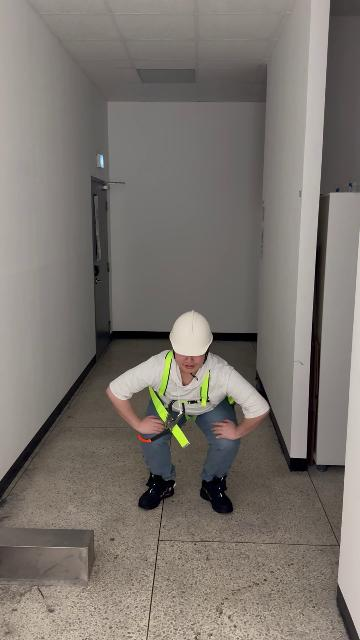helmet_worn: (168, 310, 214, 356)
shoe_worn: (138, 472, 176, 510), (200, 474, 233, 512)
vest_worn: (142, 345, 226, 444)
